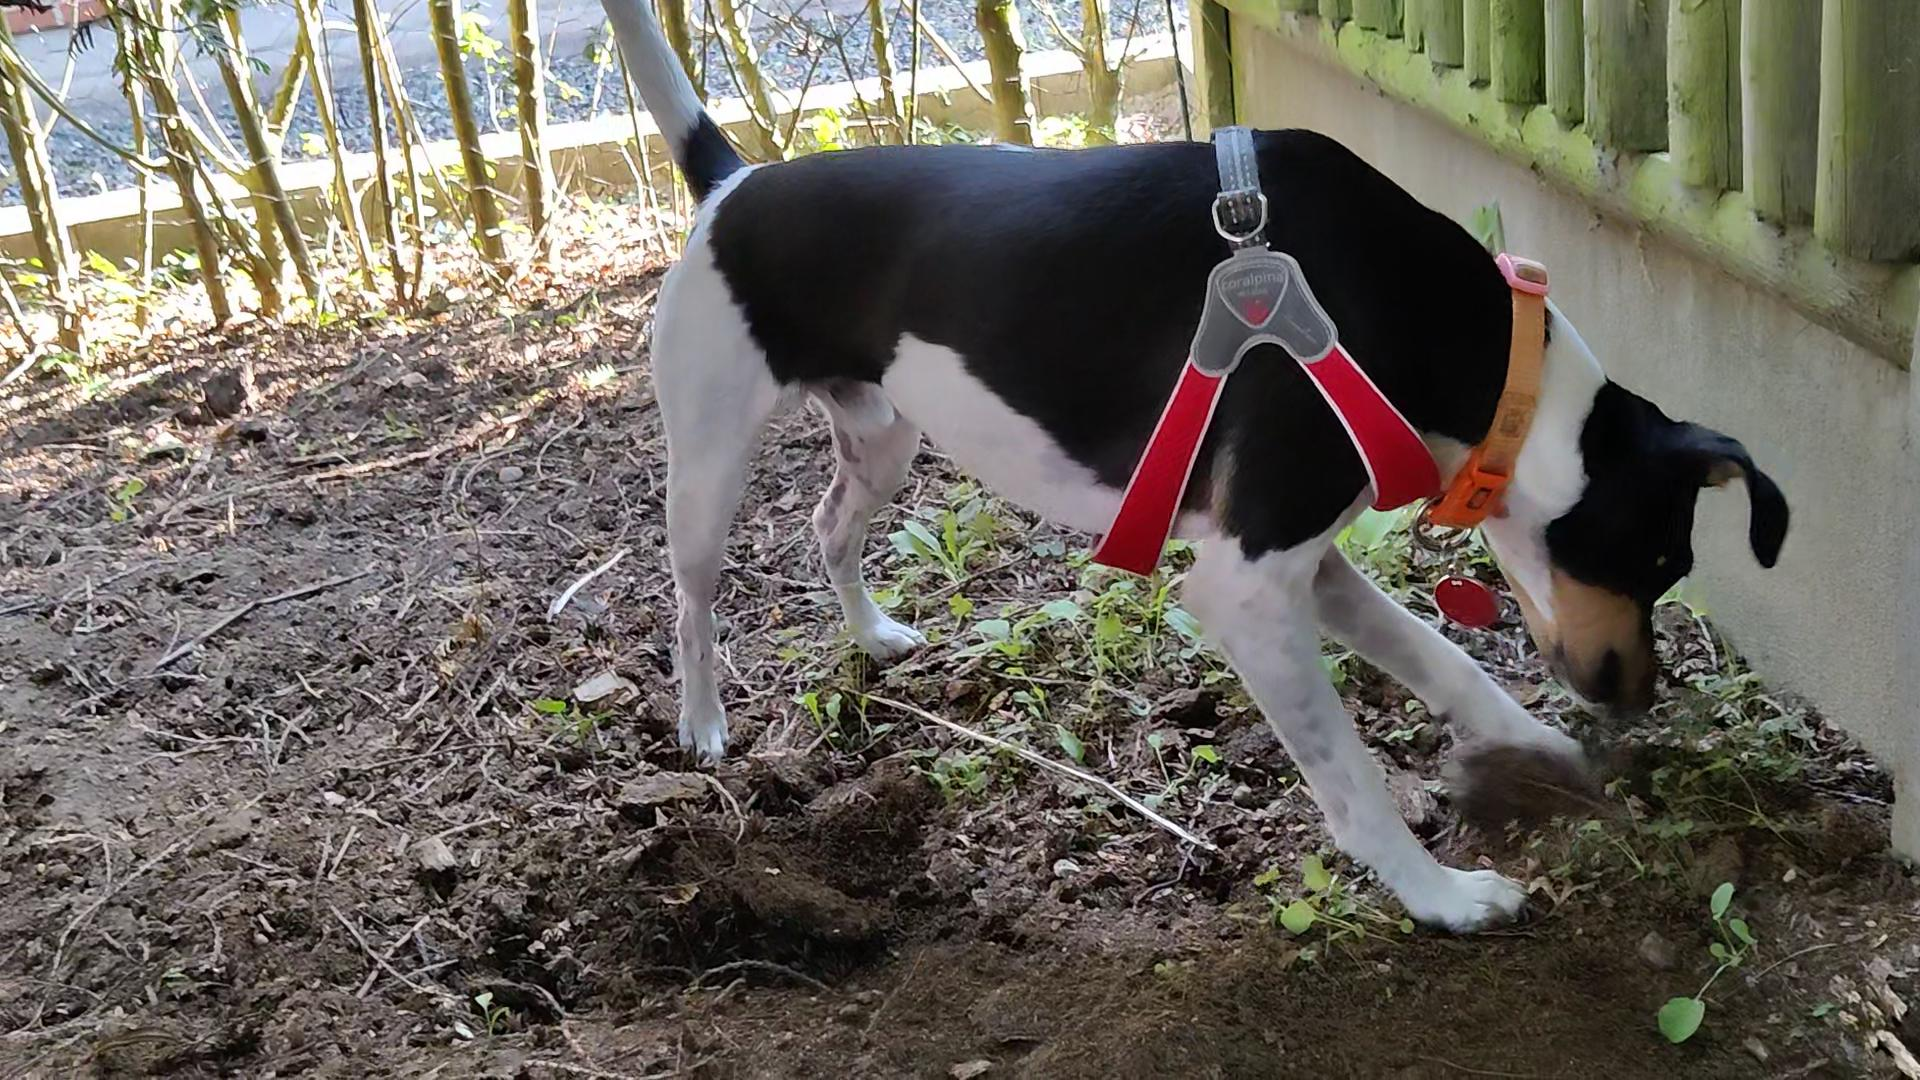Dog: (588, 0, 1803, 990)
